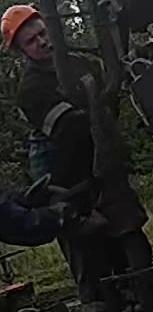helmet: (0, 4, 41, 52)
vest: (15, 61, 141, 232)
